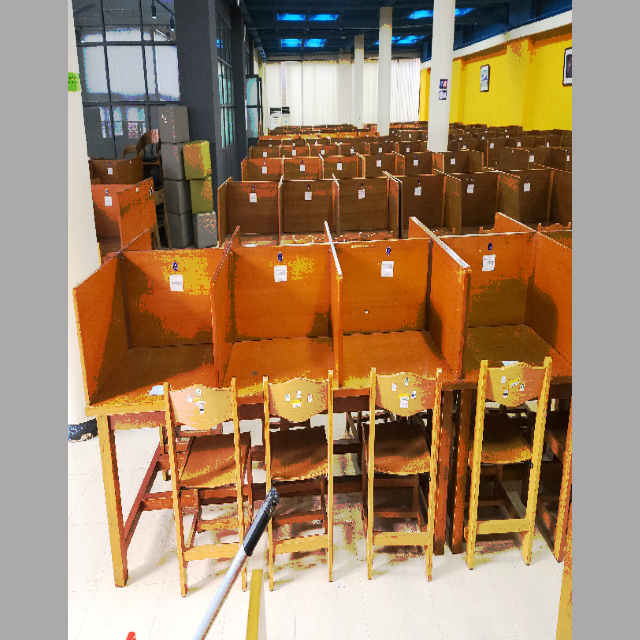empty: (77, 259, 214, 480), (342, 255, 466, 465), (220, 259, 337, 471)
